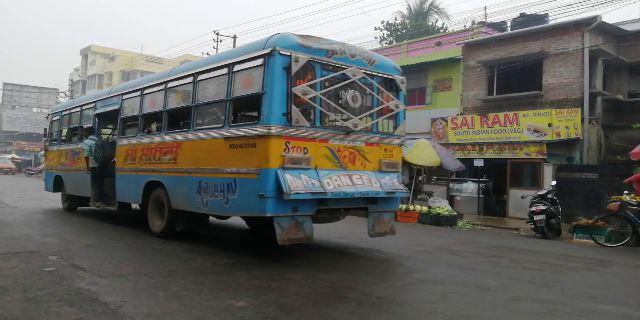Bus: (31, 46, 420, 237)
